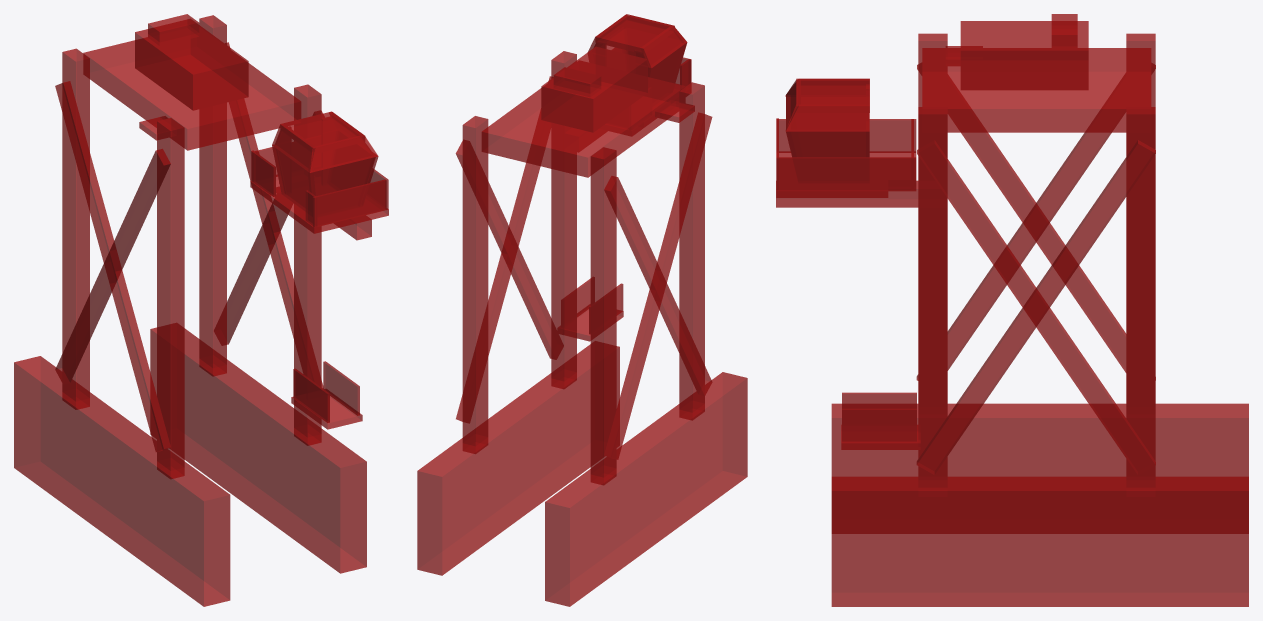
The model's file is SM_Veh_StraddleCarrier_01_Collision.fbx.
3 views of the same model, side by side, from view 1: azimuth 30°, elevation 25°; view 2: azimuth 150°, elevation 25°; view 3: azimuth 270°, elevation 25° (orthographic). The views are drawn at different scales.
Visible parts, largest first — view 1: SM_Veh_StraddleCarrier_01_Collision; view 2: SM_Veh_StraddleCarrier_01_Collision; view 3: SM_Veh_StraddleCarrier_01_Collision.
Boxes of the visible parts, x1,y1,x2,y2 form: SM_Veh_StraddleCarrier_01_Collision: [14, 14, 388, 606]; SM_Veh_StraddleCarrier_01_Collision: [417, 14, 747, 606]; SM_Veh_StraddleCarrier_01_Collision: [776, 14, 1248, 606].
Bounding box in the file's own units: 602 × 1694 × 1355.
